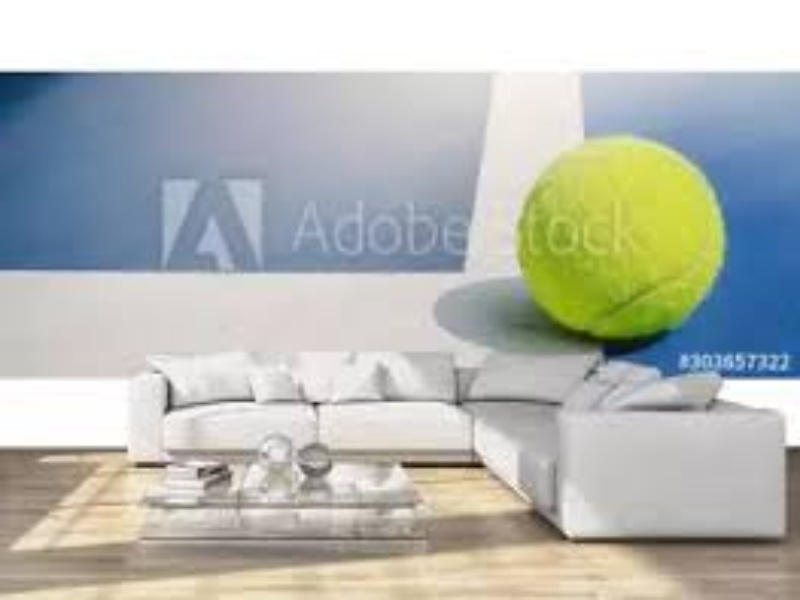tennis ball: (497, 118, 780, 358)
